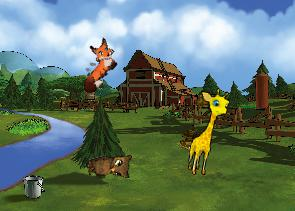fox: (66, 34, 126, 96)
giraffe: (185, 85, 232, 179)
owl: (84, 149, 136, 188)
